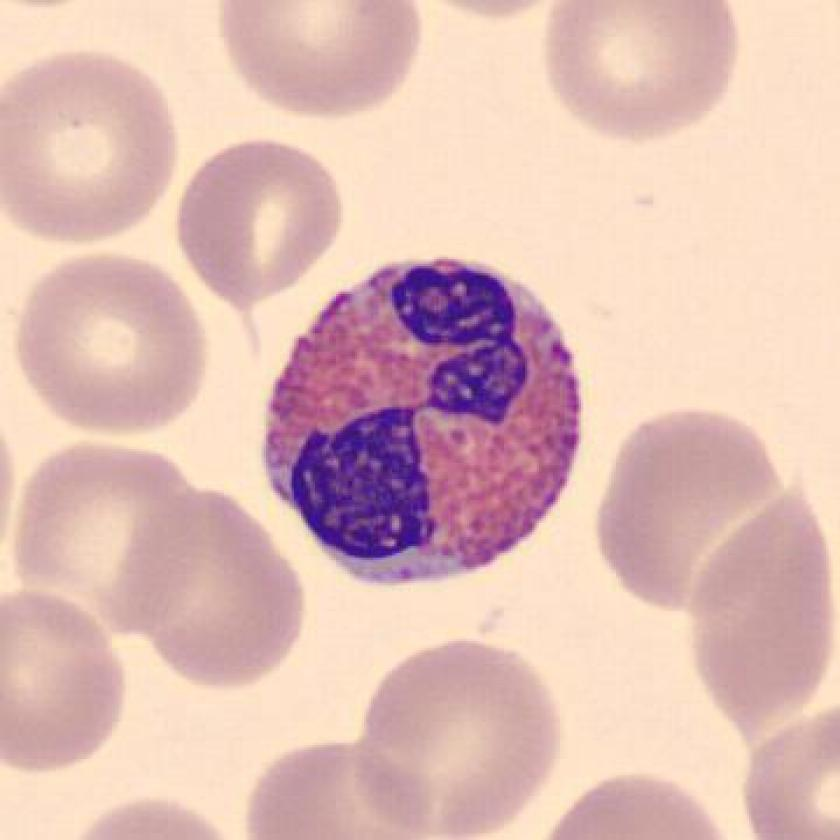eosinophil: (256, 240, 599, 601)
